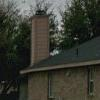Chimney: (23, 6, 55, 68)
